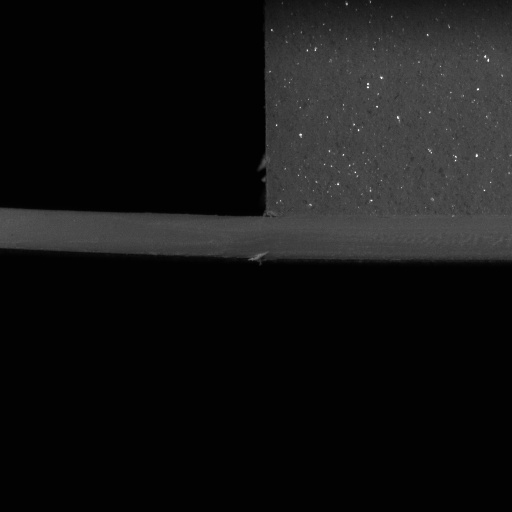changdai: (0, 208, 268, 261)
